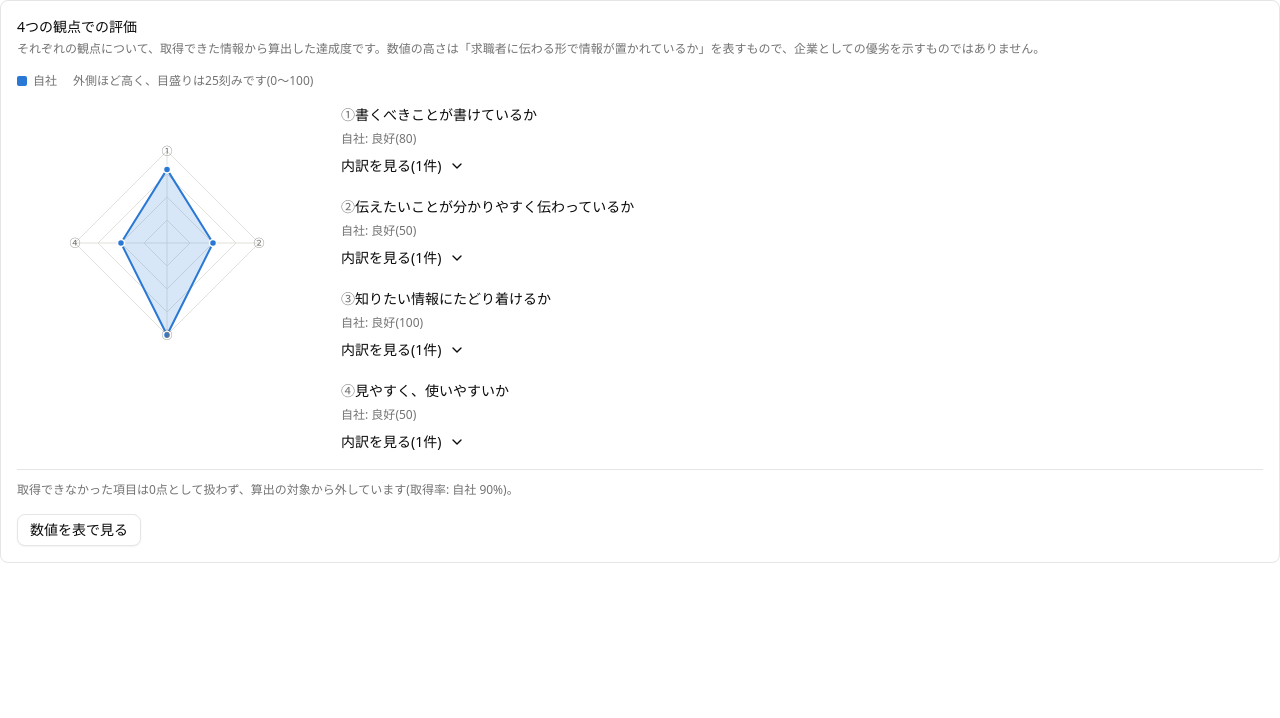
Test: LeadPerspectiveComparison › 数値の表は既定で閉じており、開くと観点ごとの数値が出る(ツールチップだけが読む手段にならない)
Click the button "数値を表で見る" at (79,530), box [17, 514, 141, 546]
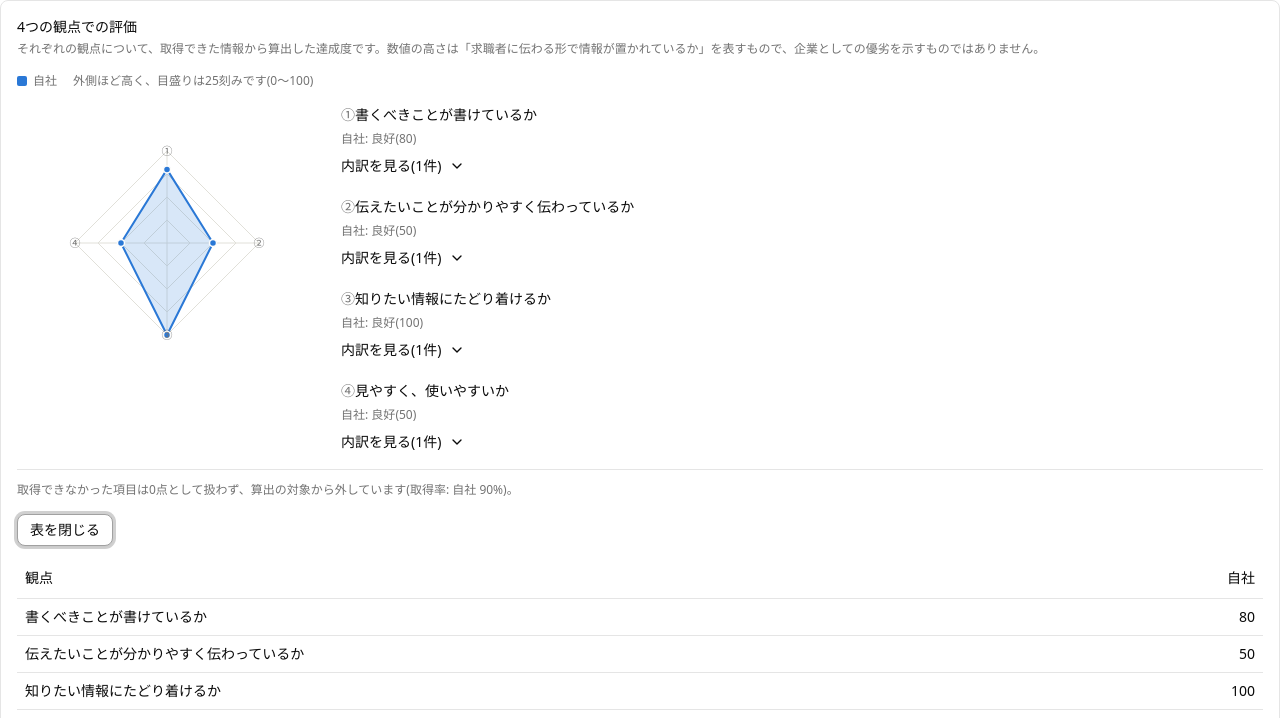
Result: the cell "80" is shown at [1101, 598, 1263, 635]
